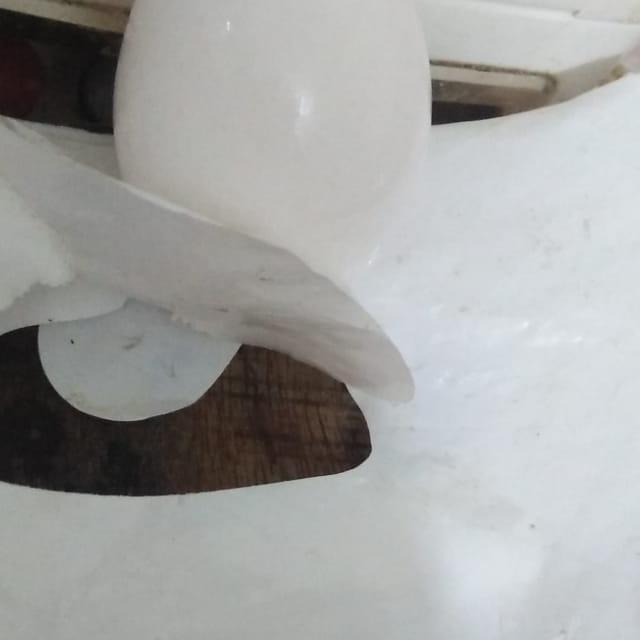egg: (124, 0, 425, 257)
